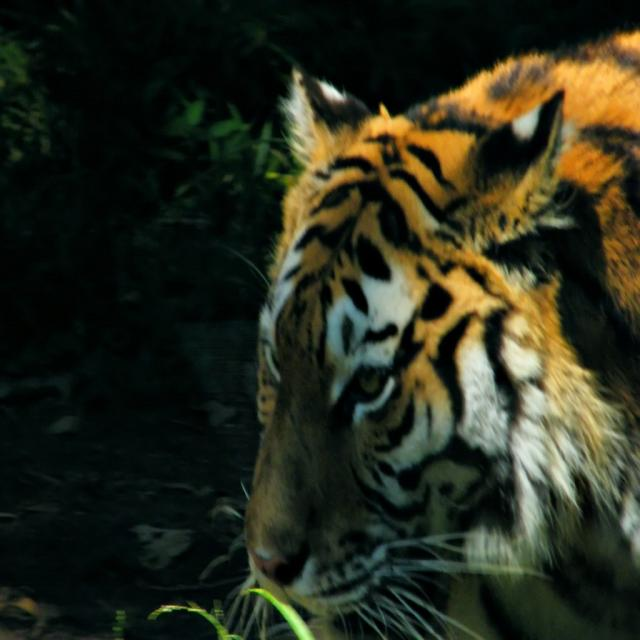Tiger: (226, 31, 640, 639)
